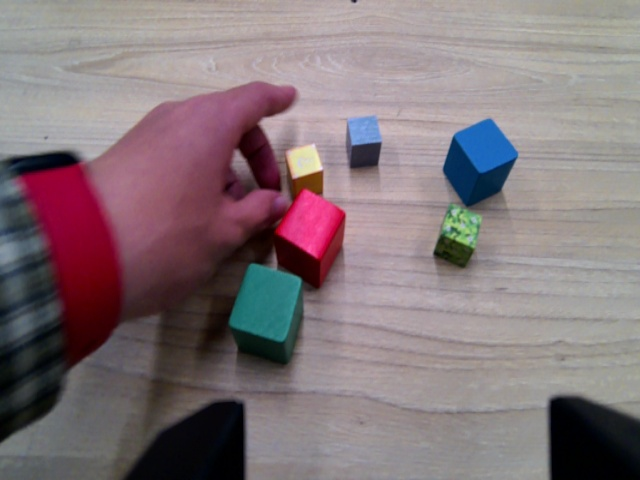grass: (430, 200, 486, 268)
lucky: (280, 142, 327, 204)
stone: (336, 110, 386, 170)
